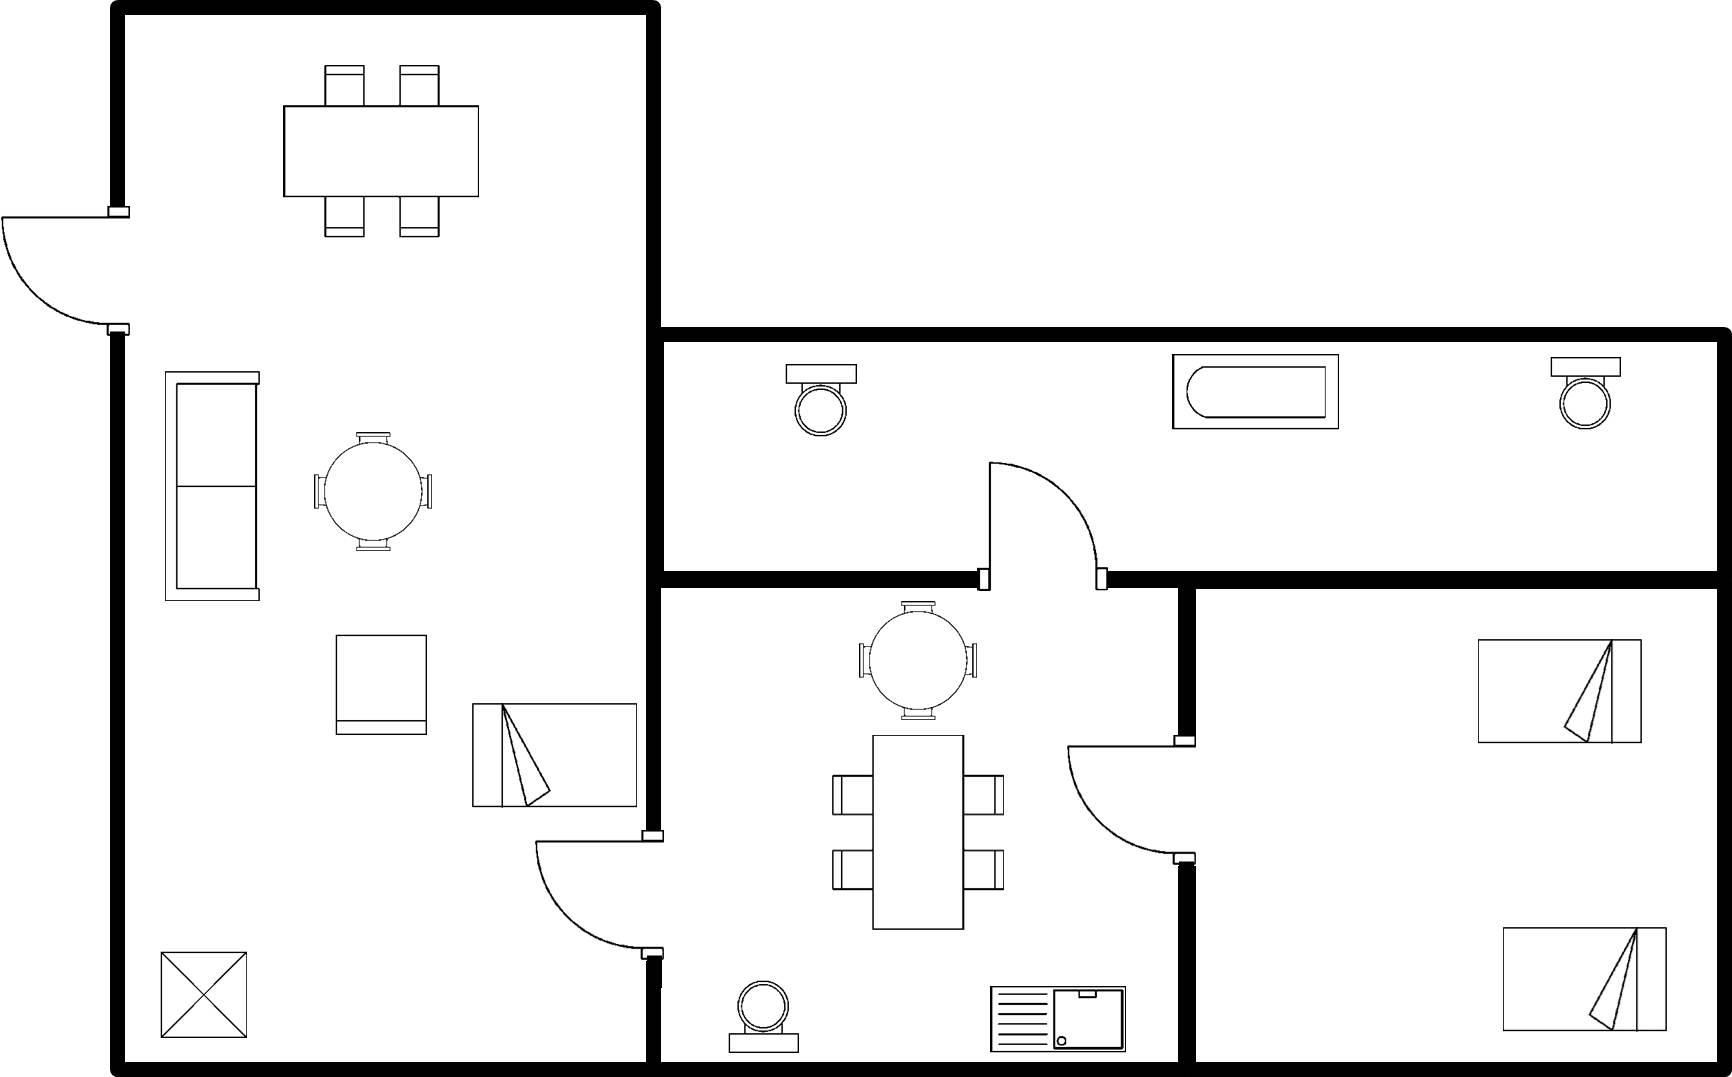bed: (1488, 919, 1676, 1040), (1469, 630, 1649, 754), (464, 694, 643, 815)
dining_table: (818, 728, 1015, 941), (270, 53, 486, 244)
round_table: (301, 419, 444, 560), (845, 591, 990, 728)
sink: (981, 978, 1133, 1058)
sofa: (151, 357, 270, 614)
toilet: (1540, 347, 1632, 440), (775, 351, 868, 442), (720, 972, 806, 1057)
tub: (1161, 346, 1346, 440)
